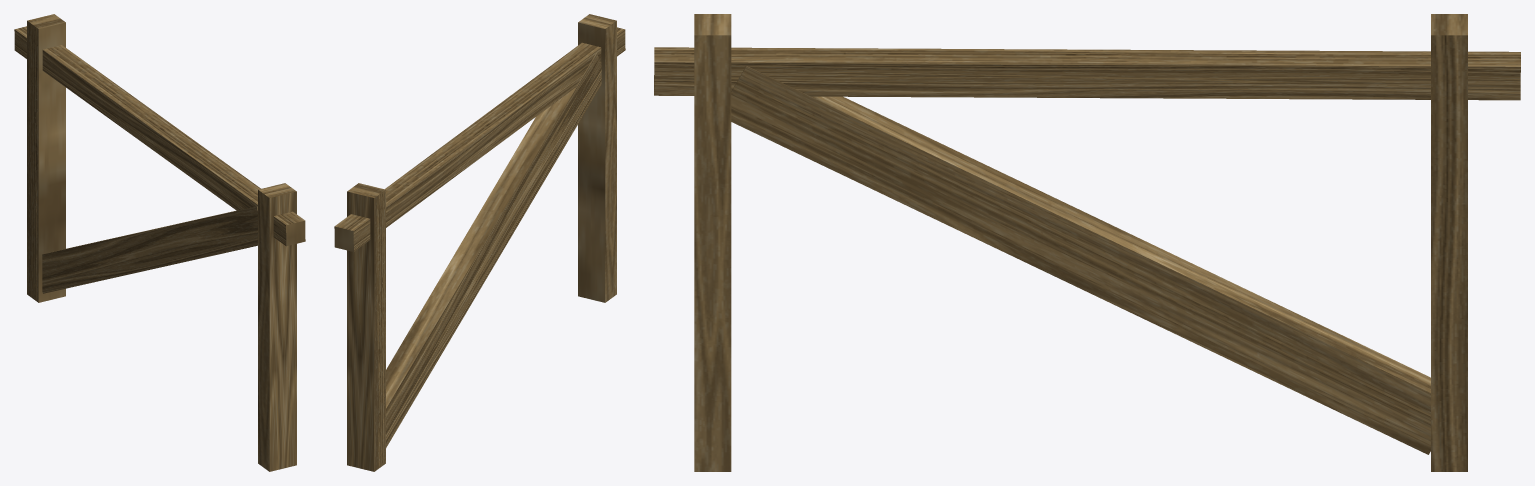
Rendered from fence.fbx.
3 renders of one model, left to right at view 1: azimuth 30°, elevation 25°; view 2: azimuth 150°, elevation 25°; view 3: azimuth 270°, elevation 25°, orthographic. The views are drawn at different scales.
Visible parts, largest first — view 1: Cube; view 2: Cube; view 3: Cube.
Part boxes in pixels (x1,y1,x2,y2): Cube: (14,14,305,471); Cube: (334,14,625,471); Cube: (654,14,1520,471).
Size of the model in its own units: 141 by 1358 by 2443.
